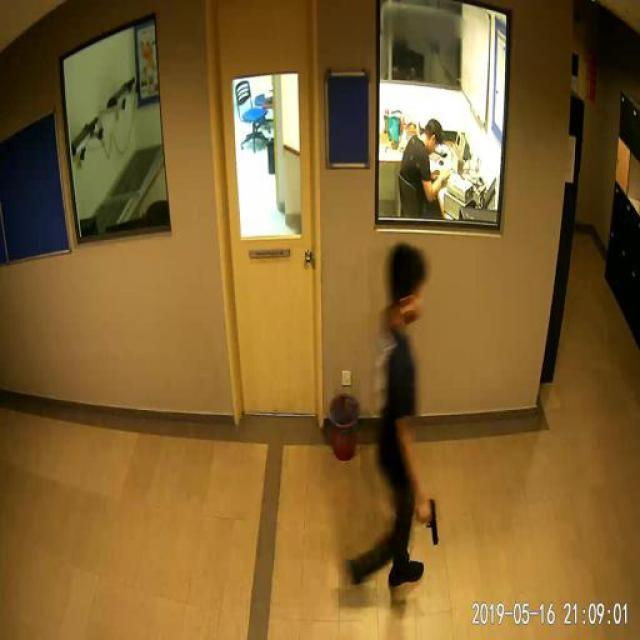weapon: (423, 498, 440, 546)
